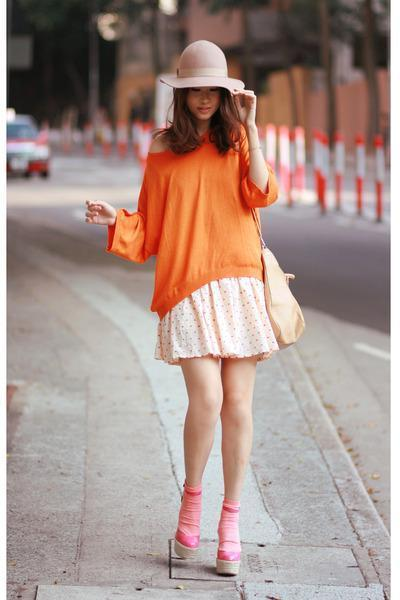long sleeve shirt: (102, 120, 277, 292)
skirt: (147, 268, 283, 363)
